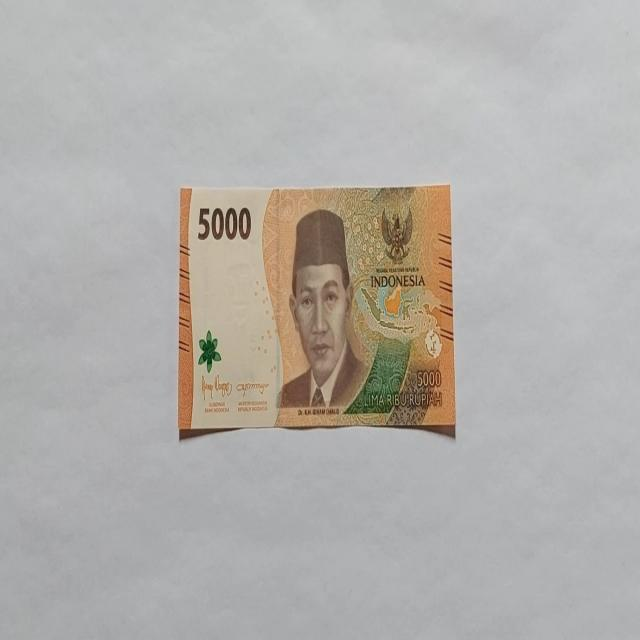lima ribu rupiah: (178, 183, 456, 437), (275, 208, 369, 412)
